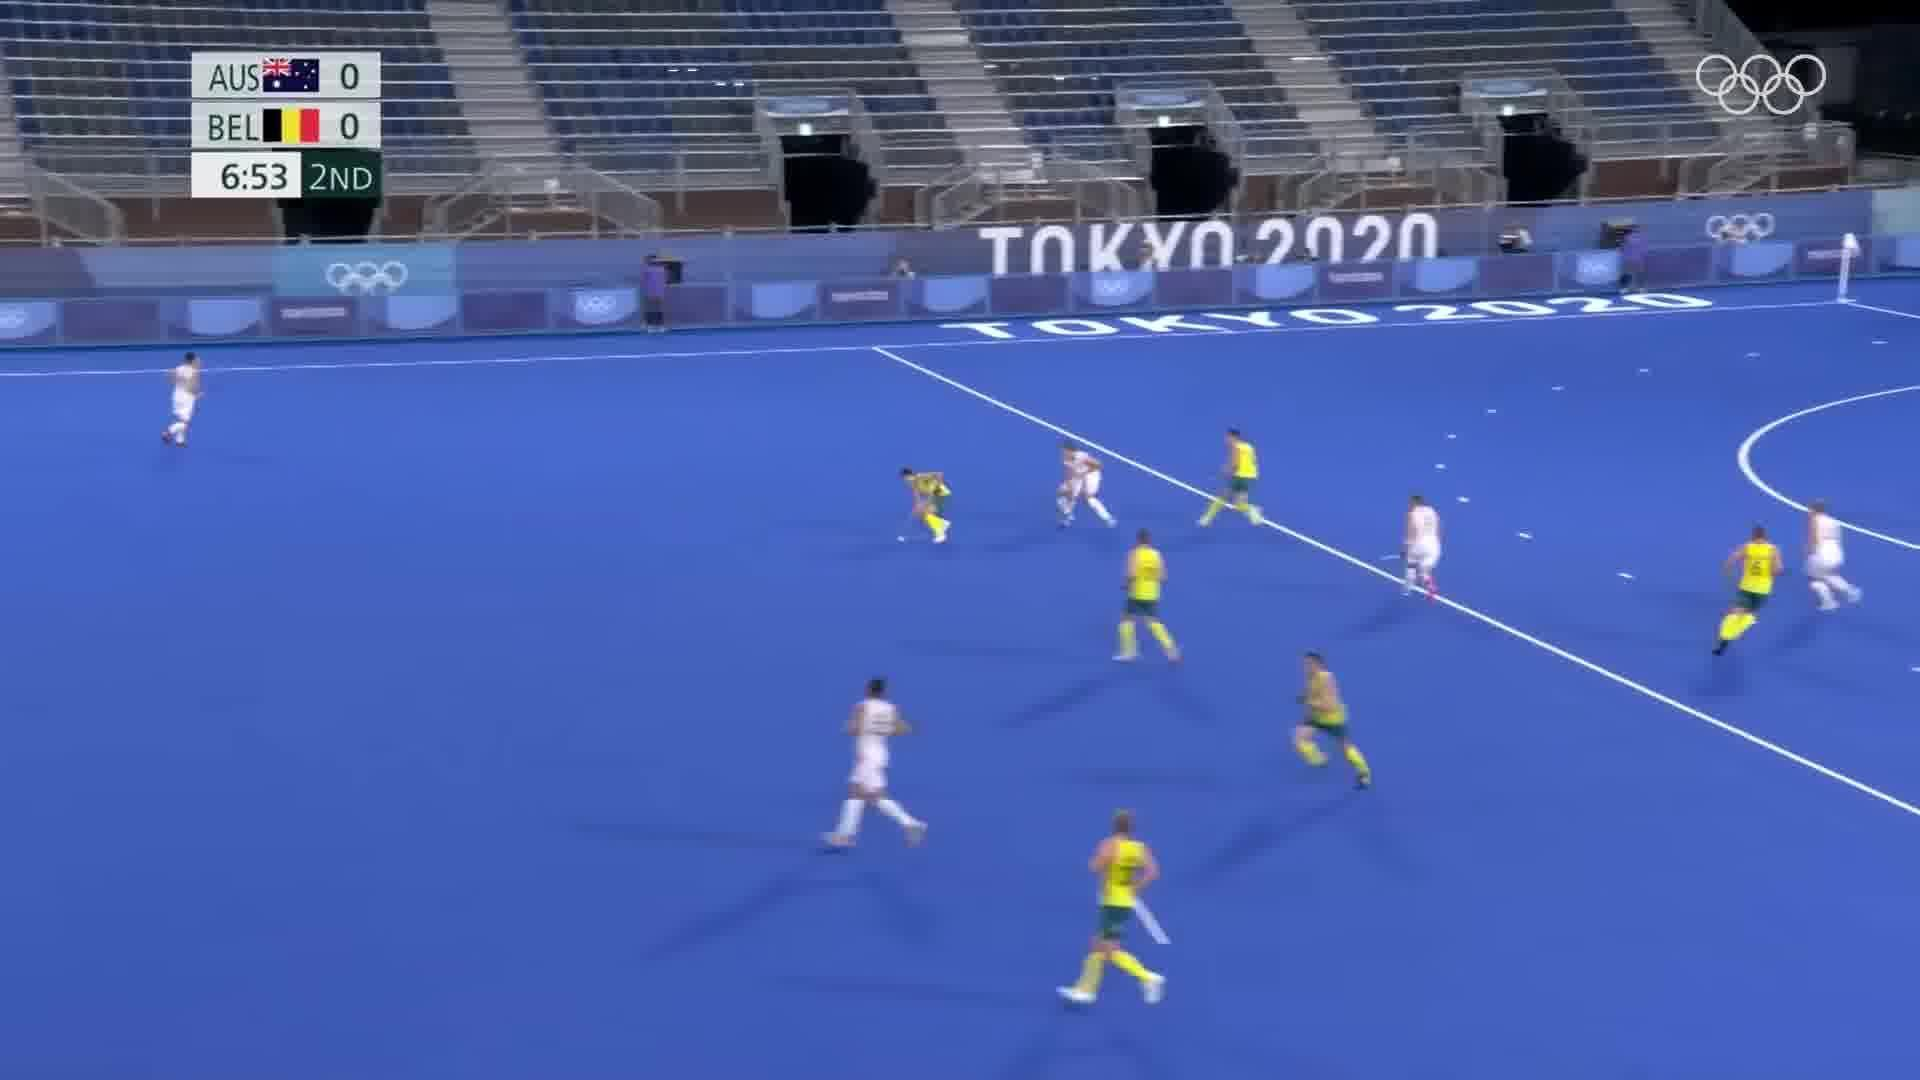ball: (895, 531, 909, 546)
